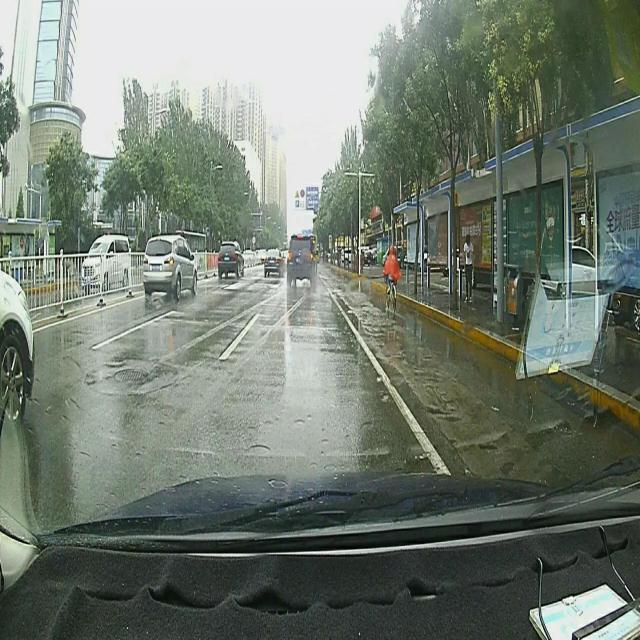car: (0, 266, 33, 421), (142, 236, 196, 300), (80, 233, 130, 290), (286, 231, 318, 285), (217, 238, 245, 278), (263, 248, 284, 276)
